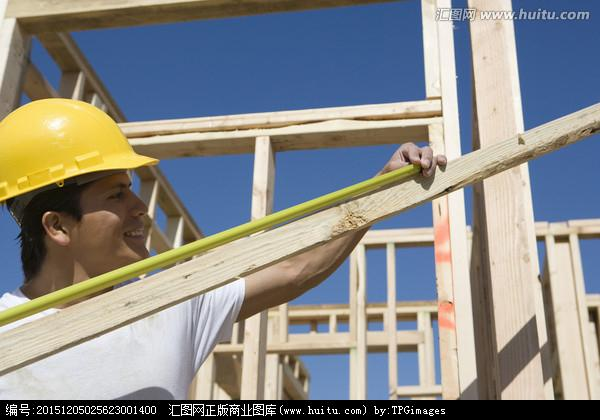helmet: (1, 99, 162, 197)
